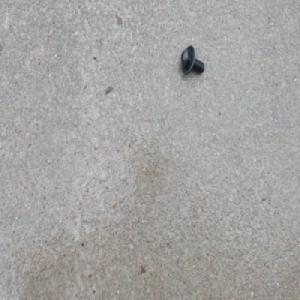BoltWasher: (179, 43, 204, 75)
